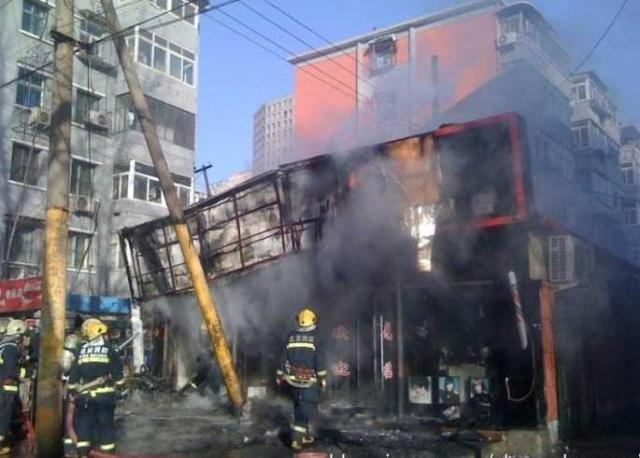smoke: (441, 145, 512, 337), (273, 254, 429, 310), (316, 177, 422, 251), (213, 279, 284, 350), (324, 108, 396, 163), (151, 297, 203, 352)
